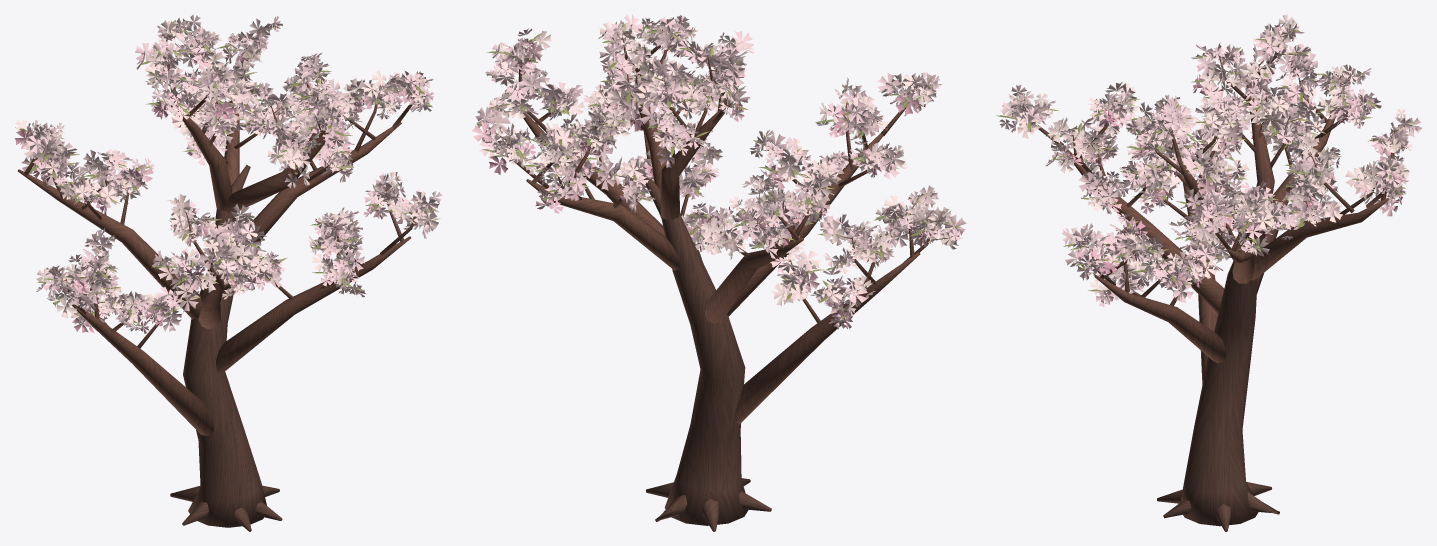
The model's file is sakura.glb.
3 views of the same model, side by side, from view 1: azimuth 30°, elevation 25°; view 2: azimuth 150°, elevation 25°; view 3: azimuth 270°, elevation 25° (orthographic). The views are drawn at different scales.
Visible parts, largest first — view 1: Five-lobed cupped sakura flowers, Forked cherry trunk, exposed roots and swept branchlets, Young serrate cherry leaves; view 2: Five-lobed cupped sakura flowers, Forked cherry trunk, exposed roots and swept branchlets, Young serrate cherry leaves; view 3: Five-lobed cupped sakura flowers, Forked cherry trunk, exposed roots and swept branchlets, Young serrate cherry leaves.
Part boxes in pixels (x1=…): Five-lobed cupped sakura flowers: x1=15, y1=14, x2=442, y2=333; Forked cherry trunk, exposed roots and swept branchlets: x1=17, y1=32, x2=427, y2=531; Young serrate cherry leaves: x1=15, y1=20, x2=440, y2=326; Five-lobed cupped sakura flowers: x1=471, y1=14, x2=966, y2=329; Forked cherry trunk, exposed roots and swept branchlets: x1=488, y1=29, x2=956, y2=531; Young serrate cherry leaves: x1=476, y1=22, x2=962, y2=319; Five-lobed cupped sakura flowers: x1=999, y1=14, x2=1421, y2=307; Forked cherry trunk, exposed roots and swept branchlets: x1=1022, y1=31, x2=1400, y2=531; Young serrate cherry leaves: x1=996, y1=30, x2=1413, y2=291.
Size of the model in its own units: 7.11 by 7.63 by 6.2.
3 materials, 1 textured.
